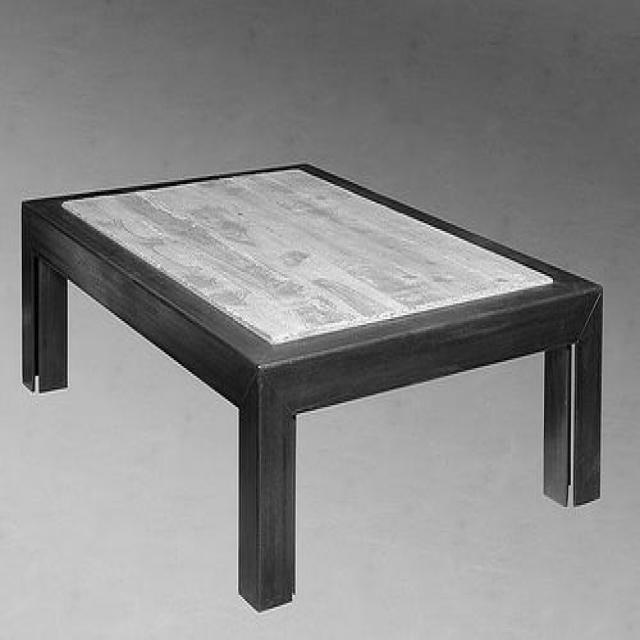table: (19, 156, 604, 610)
